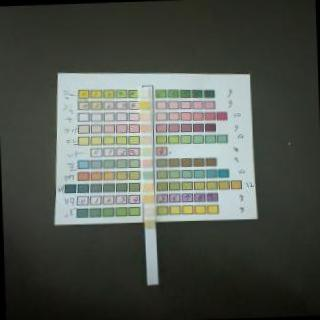mark: (144, 219, 154, 229), (142, 182, 152, 192), (142, 195, 153, 204), (143, 207, 153, 216), (139, 100, 148, 110), (142, 170, 152, 178), (140, 124, 150, 132), (138, 88, 148, 96), (141, 148, 150, 156), (140, 136, 149, 144), (142, 158, 150, 166), (141, 114, 149, 122)
